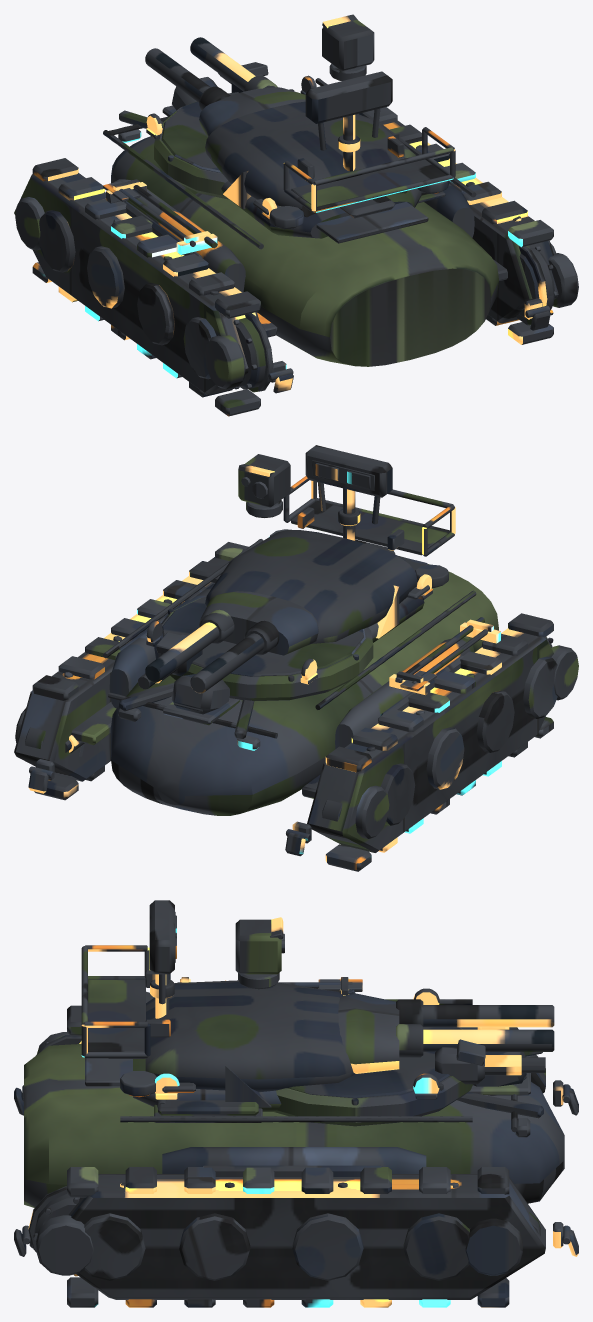
The model's file is SandlanceScout_Atlas.fbx.
3 views of the same model, one above another, from view 1: azimuth 30°, elevation 25°; view 2: azimuth 150°, elevation 25°; view 3: azimuth 270°, elevation 25° (orthographic). The views are drawn at different scales.
Visible parts, largest first — view 1: SandlanceScout_UnifiedMesh; view 2: SandlanceScout_UnifiedMesh; view 3: SandlanceScout_UnifiedMesh.
Part boxes in pixels (x1,y1,x2,y2): SandlanceScout_UnifiedMesh: (14, 14, 578, 416); SandlanceScout_UnifiedMesh: (14, 445, 578, 871); SandlanceScout_UnifiedMesh: (14, 900, 578, 1307).
Size of the model in its own units: 217 by 167 by 270.
1 material, 1 textured.
